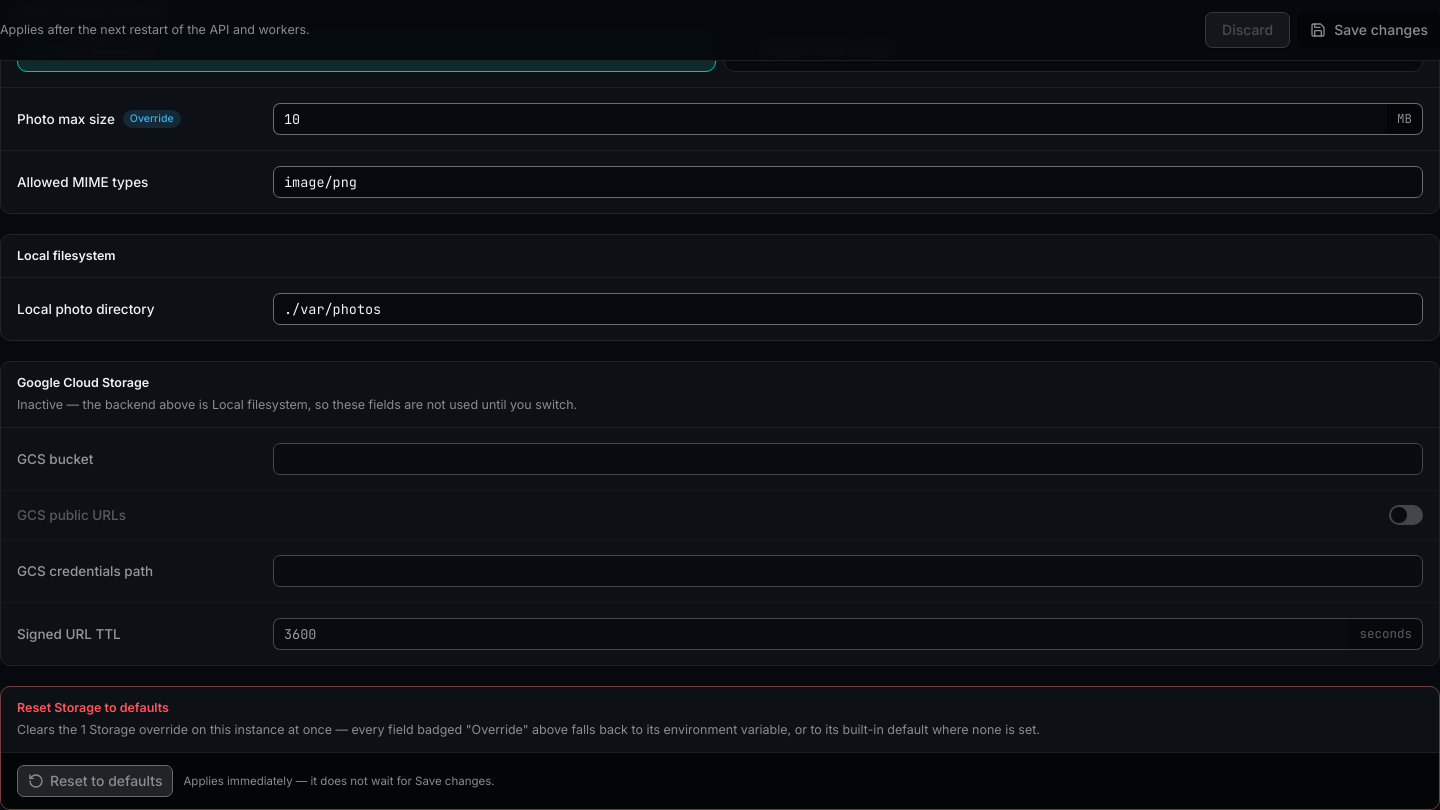
Instance settings destructive actions › abandons the reset when the confirmation is declined
(page scrolled)
Click the button "Reset to defaults": (95, 780) x1=17 y1=764 x2=173 y2=796
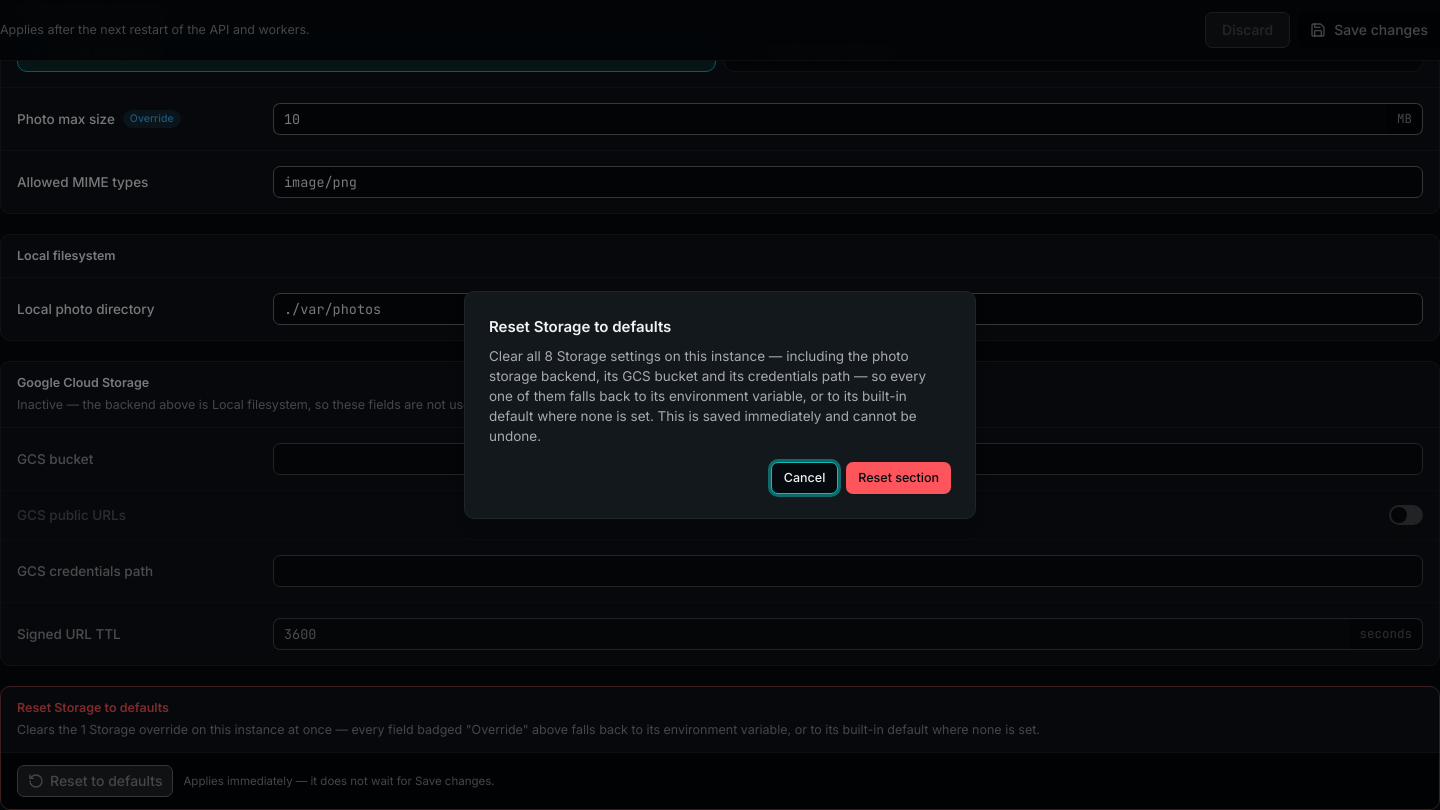
Click the button "Cancel": (805, 478) x1=771 y1=462 x2=838 y2=494
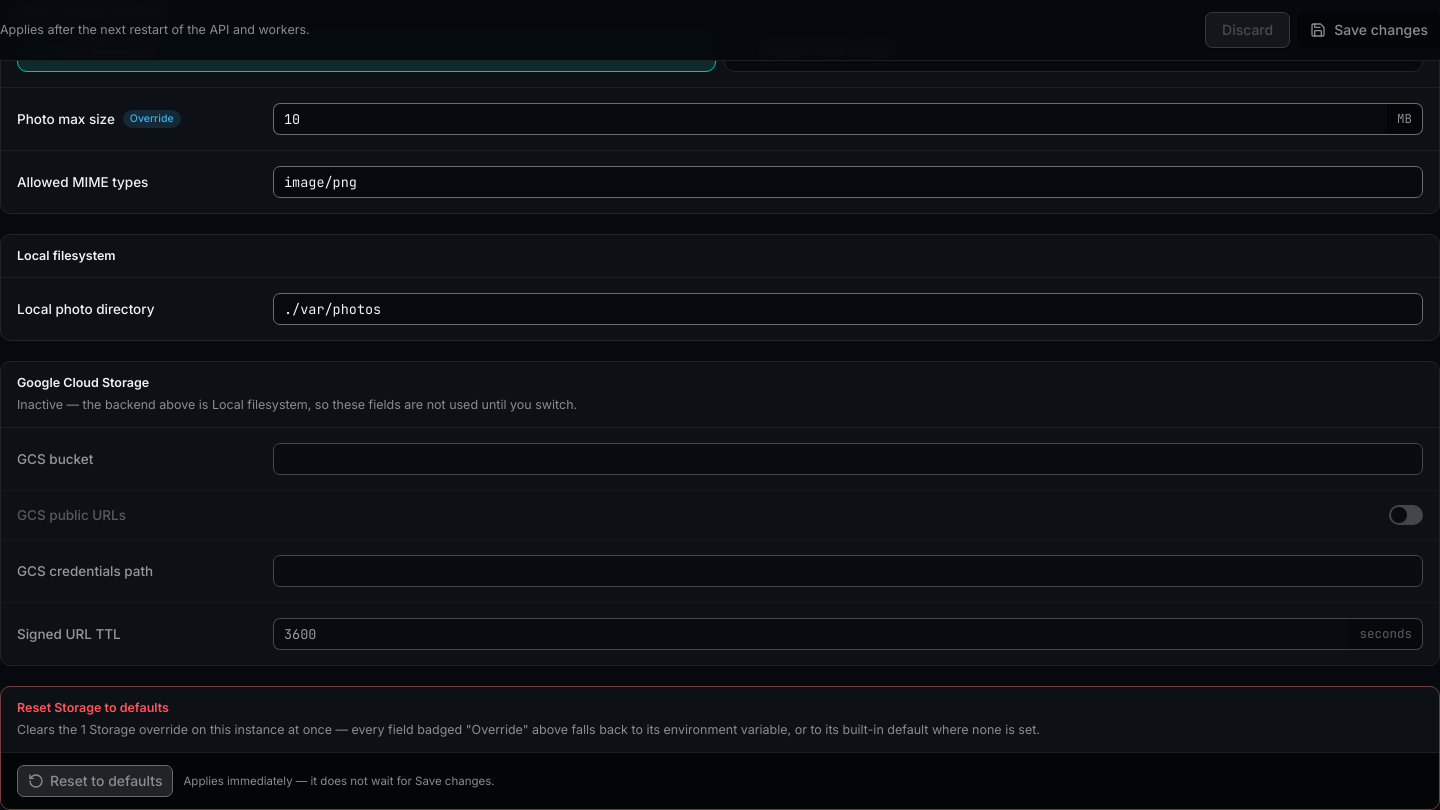
Check: the dialog is gone
